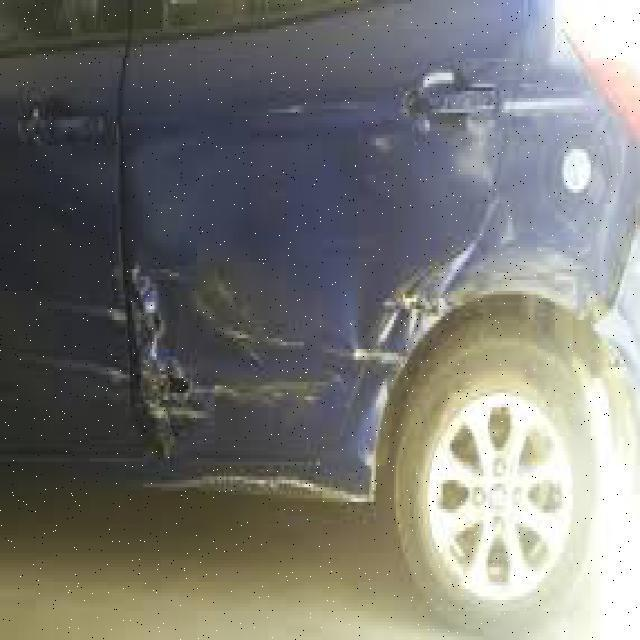doorouter-dent: (130, 22, 434, 462), (0, 51, 126, 463)
quaterpanel-dent: (474, 51, 622, 389)
